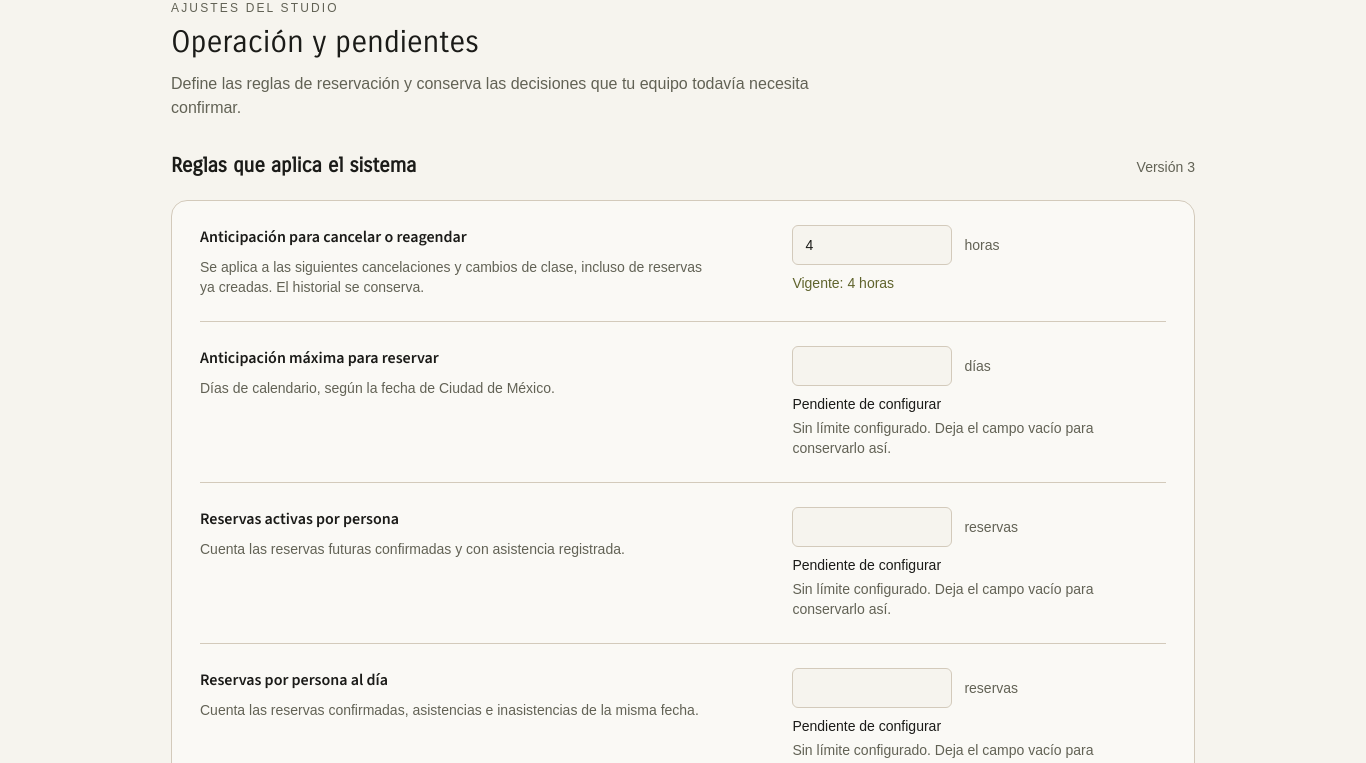
Scenario: preserves an unsaved draft after a version conflict and only replaces it on explicit reload
Replace the text in the number field labelled "Anticipación para cancelar o reagendar" with "6" at {"x": 872, "y": 245}, box [792, 225, 952, 265]
(page scrolled)
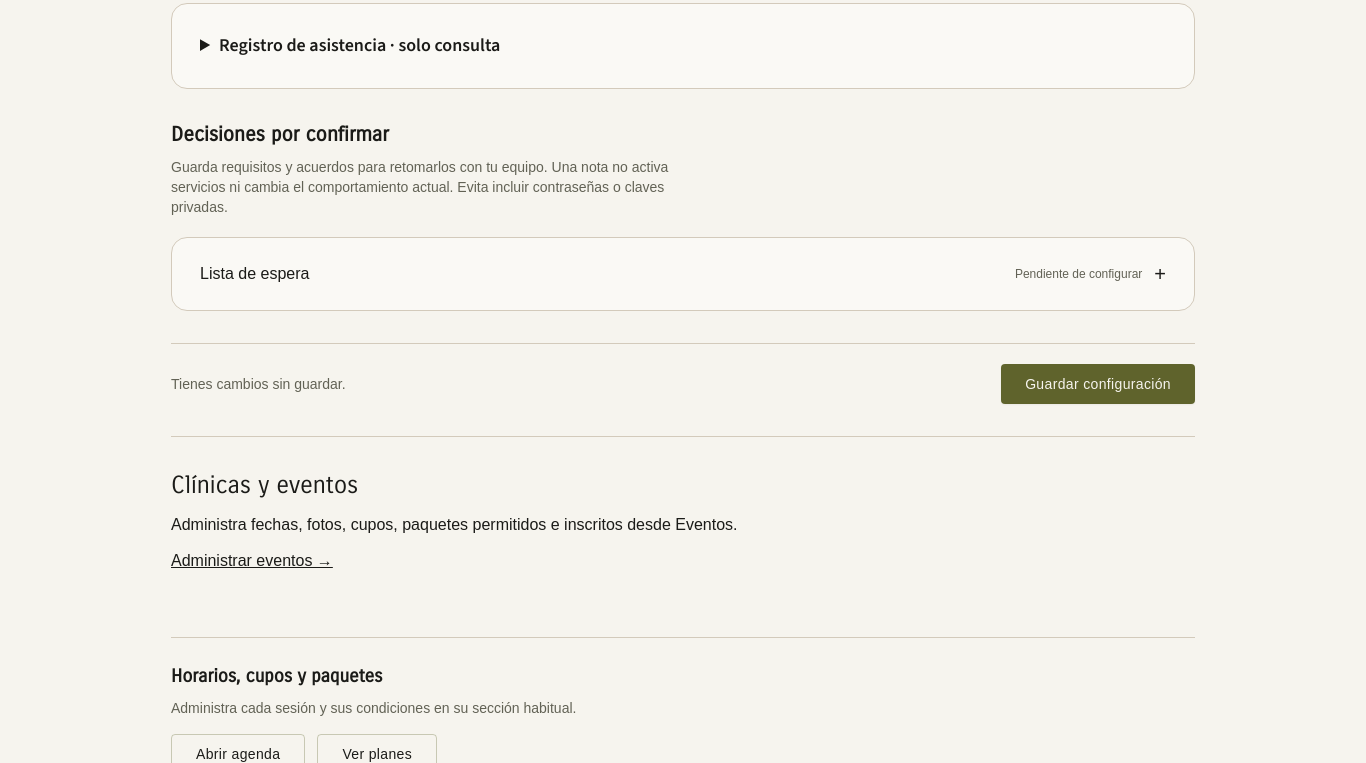
Click the button "Guardar configuración" at {"x": 1098, "y": 384}, box [1001, 364, 1195, 404]
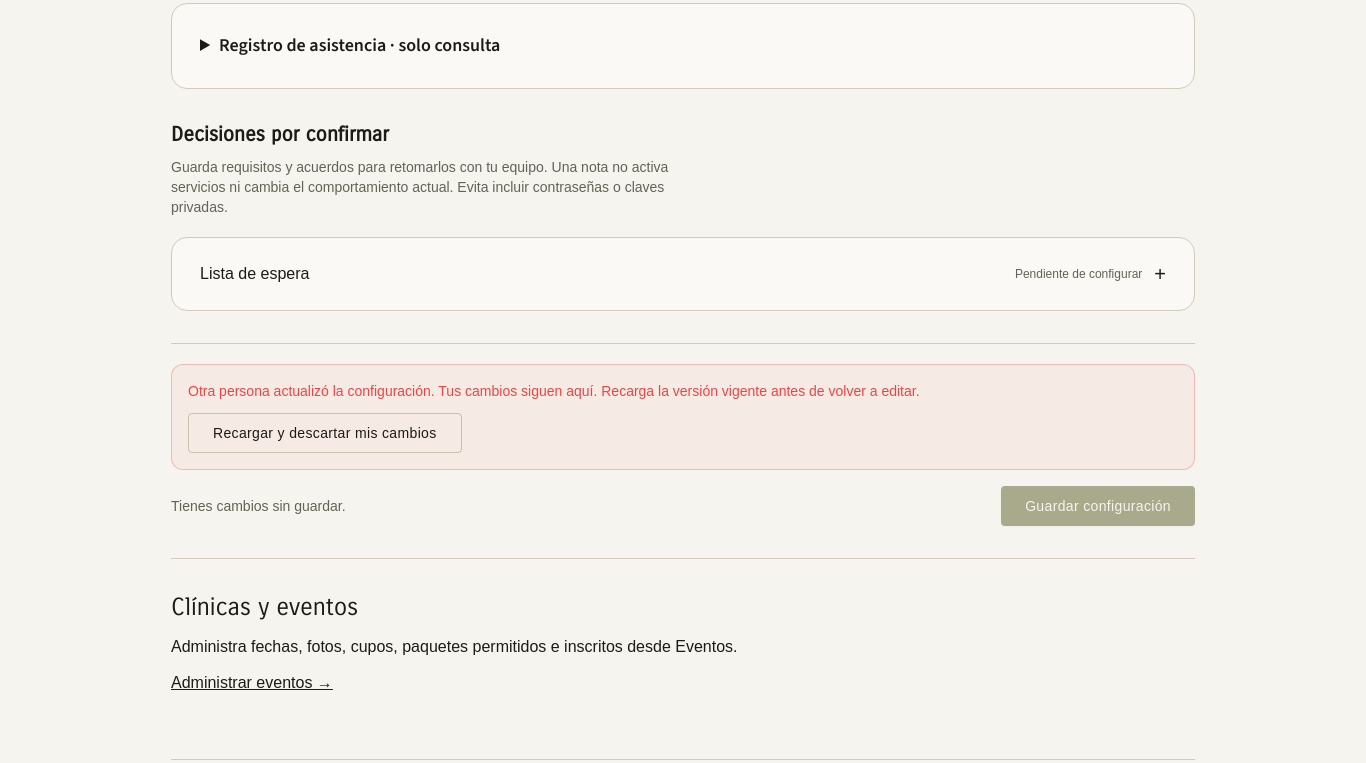
Now the 1st message shows "Otra persona actualizó la configuración", box [188, 383, 920, 399]
Now the button "Guardar configuración" is disabled, box [1001, 486, 1195, 526]
Click the button "Recargar y descartar mis cambios" at {"x": 325, "y": 433}, box [188, 413, 462, 453]
(page scrolled)
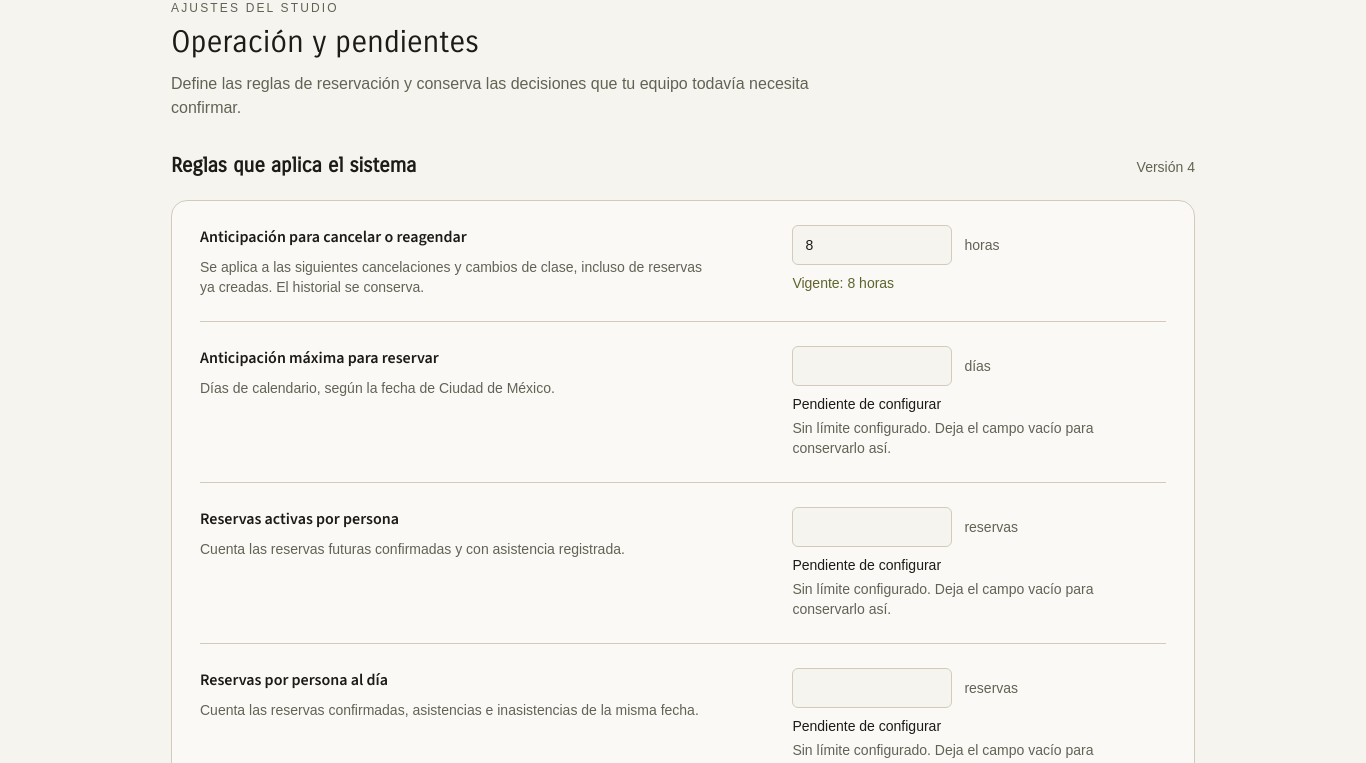
Now the number field labelled "Anticipación para cancelar o reagendar" holds "8", box [792, 225, 952, 265]
